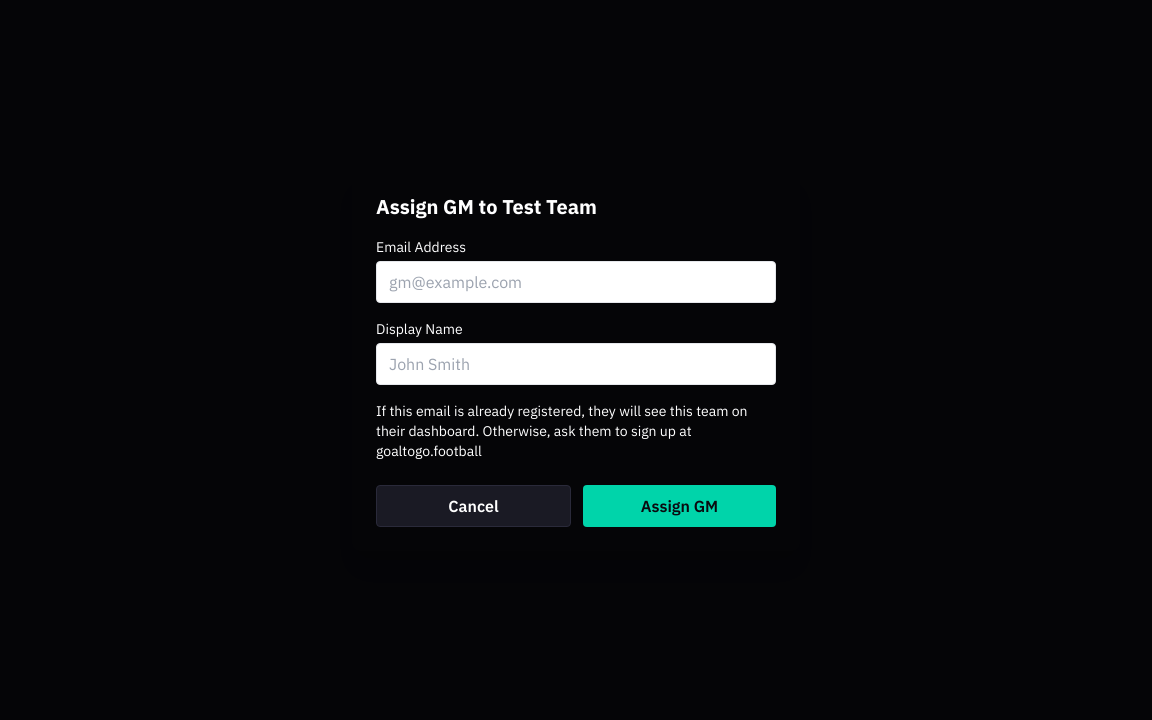
AssignGmModal › Form Validation › shows error for invalid email format
The image size is (1152, 720).
// Use an email that passes HTML5 validation but fails our regex (no TLD)
Type "user@domain" into the field labelled "Email Address".
click(576, 282); type("user@domain")  # box [376,261,776,303]
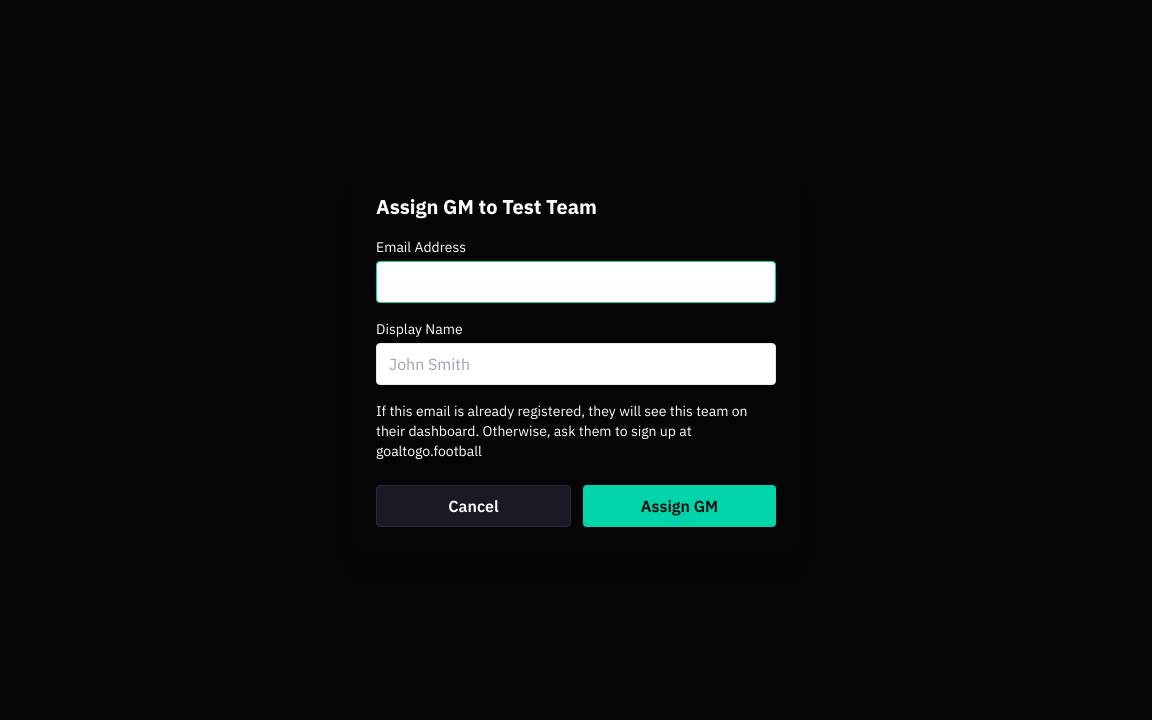
Type "John Doe" into the field labelled "Display Name".
click(576, 364); type("John Doe")  # box [376,343,776,385]
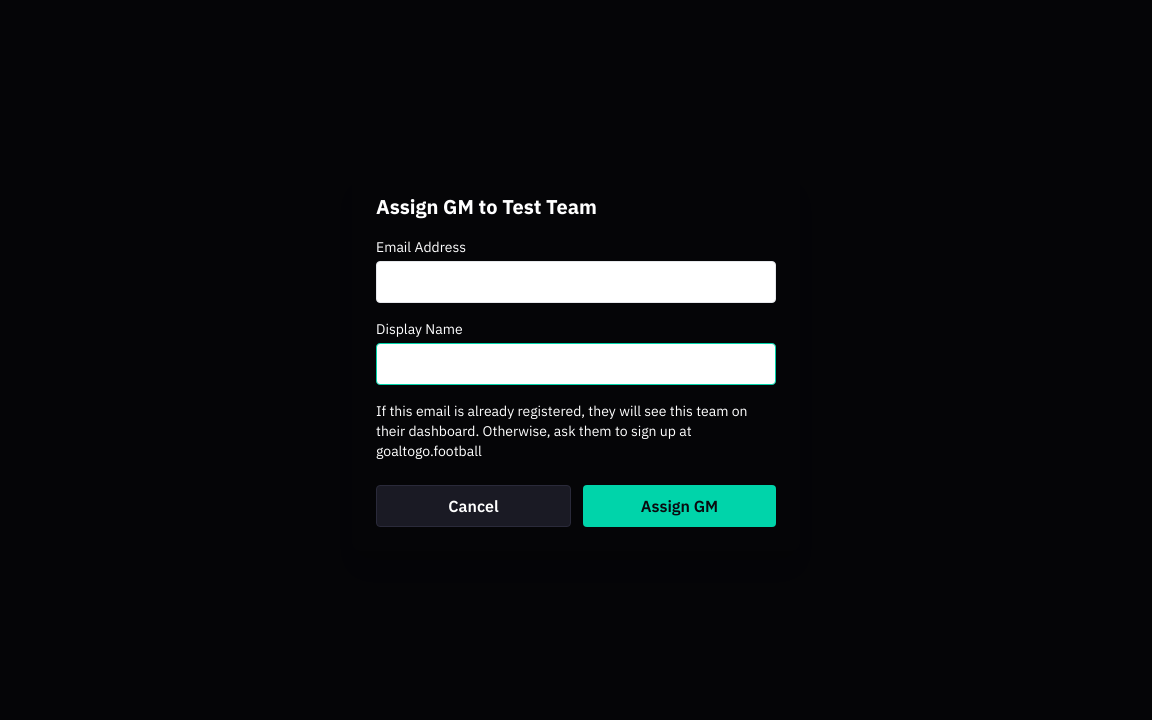
Click the button "Assign GM".
click(680, 506)  # box [583,485,776,527]
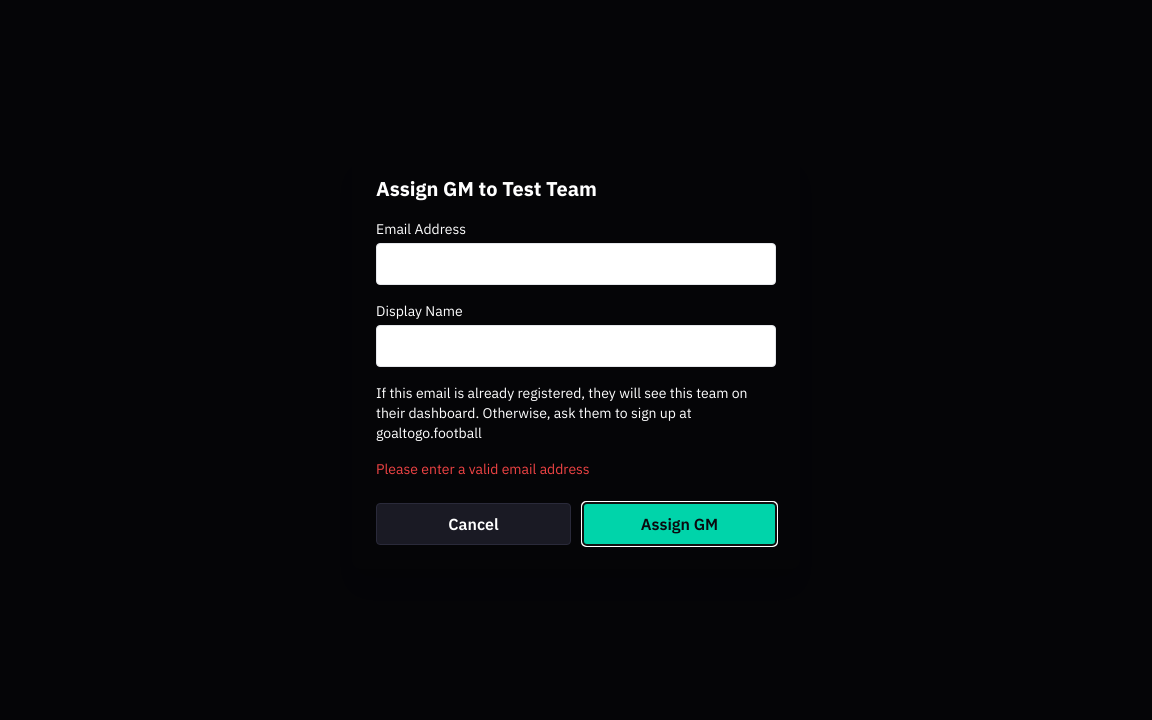
Check: the message reads "Please enter a valid email address", box [376,460,590,478]
